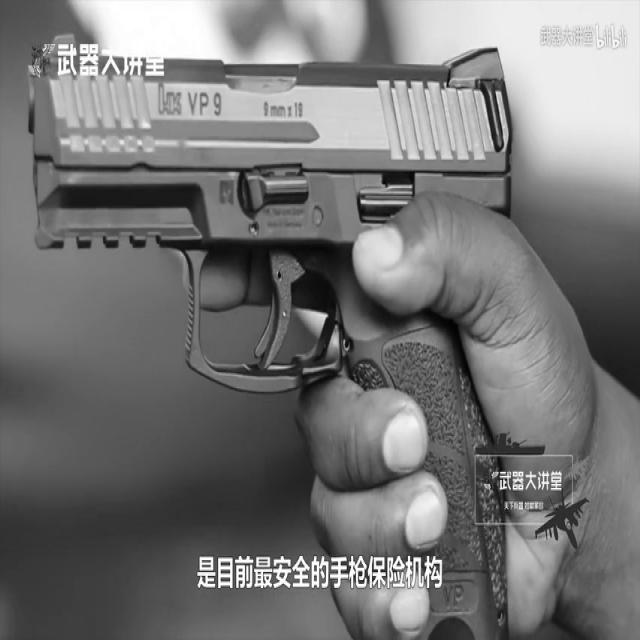Hand-Gun: (8, 0, 562, 640)
